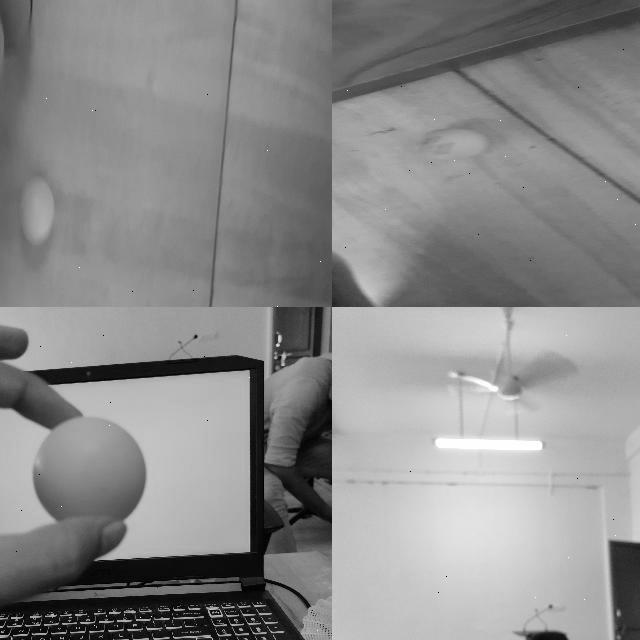ping-pong-ball: (30, 416, 144, 524), (18, 174, 54, 246), (415, 126, 489, 158)
